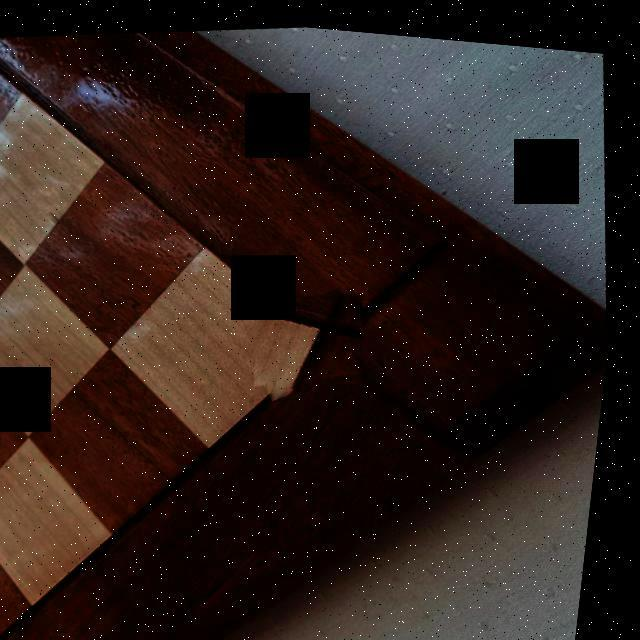chess-table-corners: (244, 277, 378, 396)
